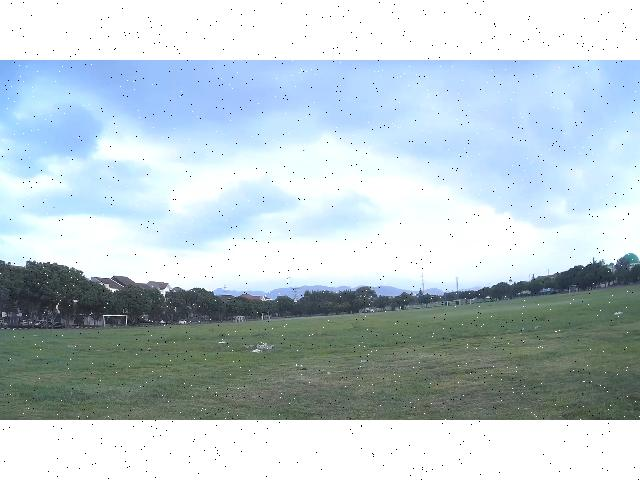Anti-Drone: (276, 264, 306, 292)
